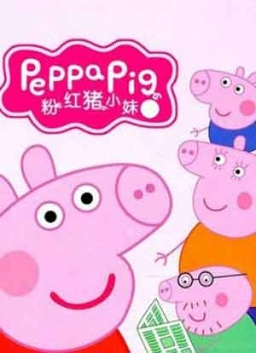Peppa: (1, 141, 174, 353)
